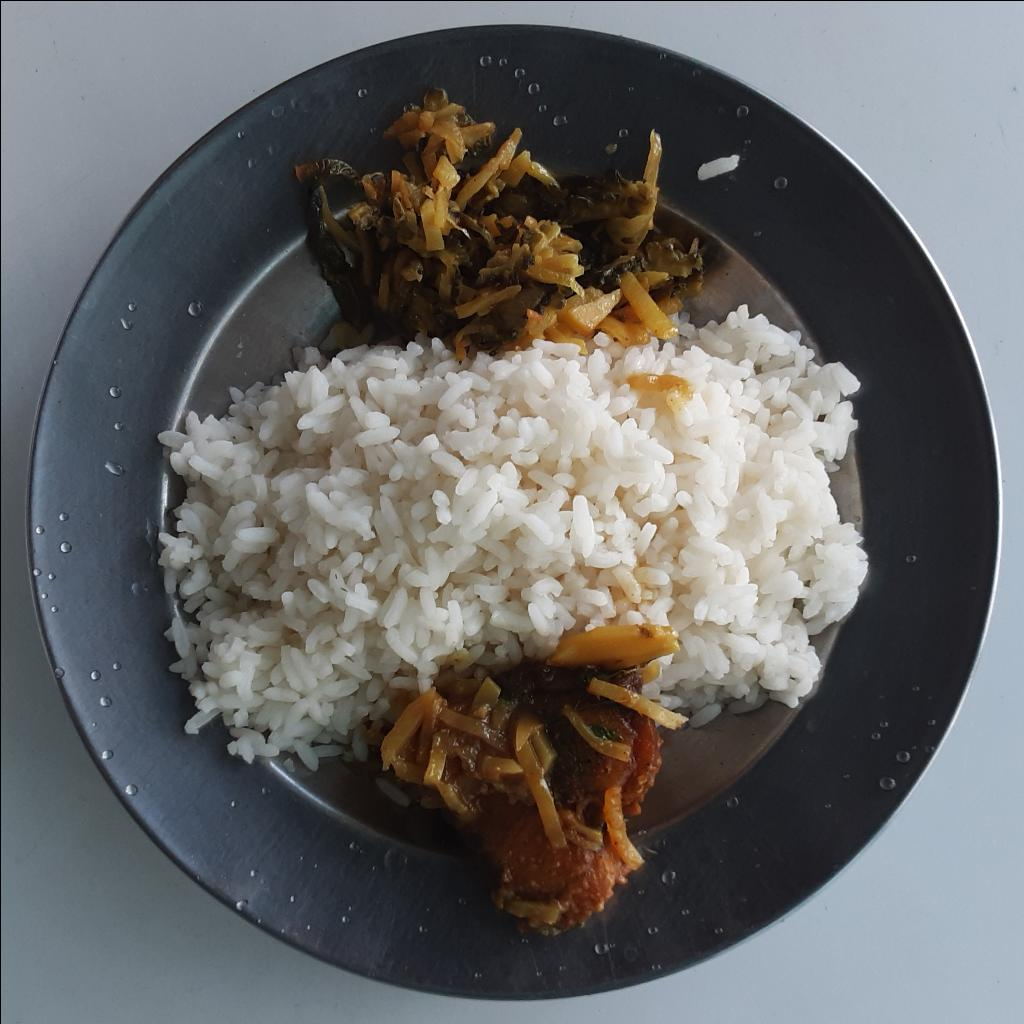fish: (380, 626, 667, 931)
korola-vaji: (313, 90, 702, 358)
rice: (155, 308, 867, 772)
